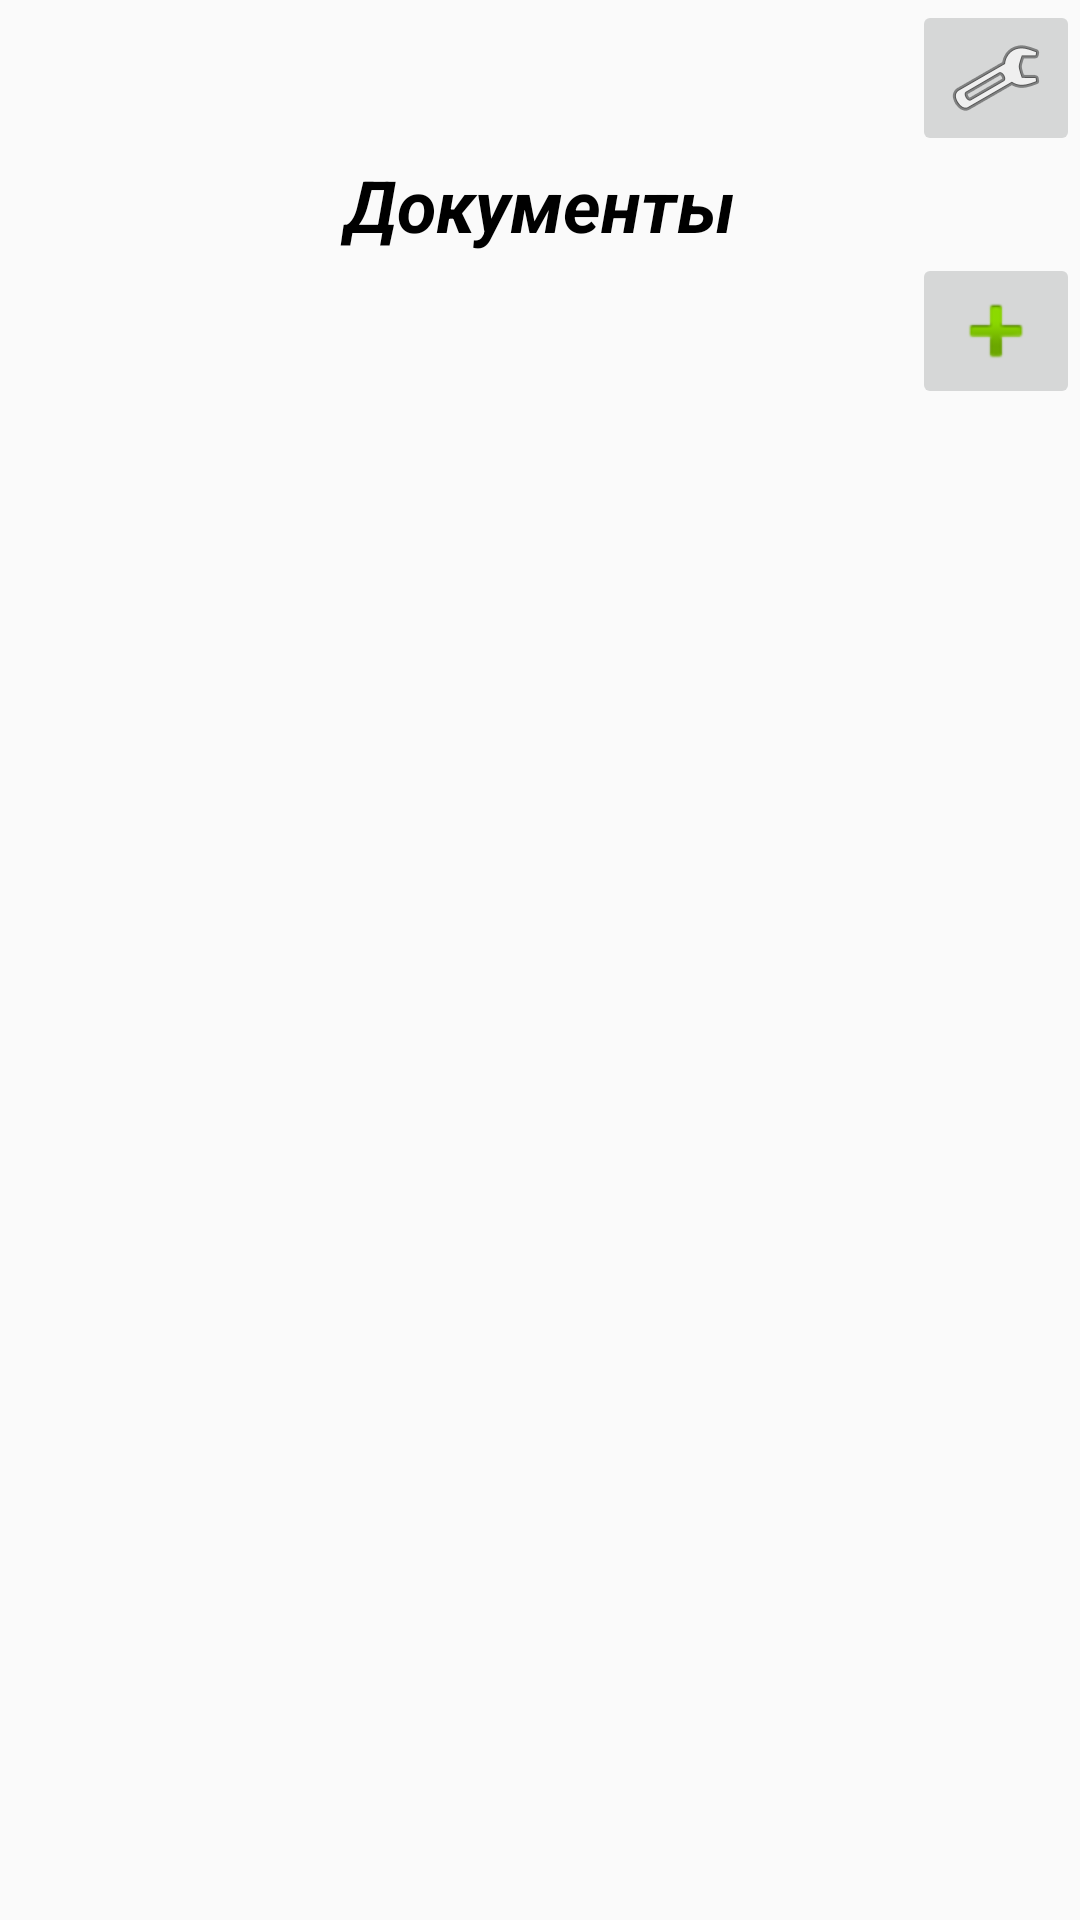

Point at icon controls on the screen. Image size 1080w x 1920h, points as (x,y).
Настройки: (996,78)
Создать документ: (996,331)
